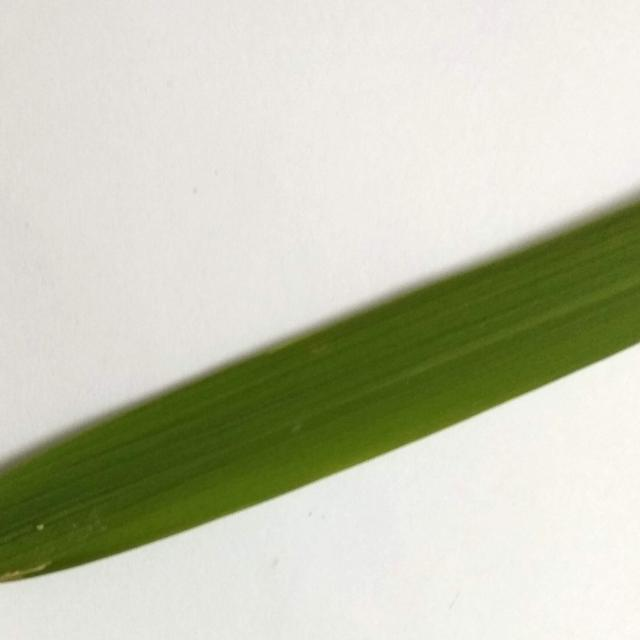Rice_Healthy: (0, 198, 640, 582)
